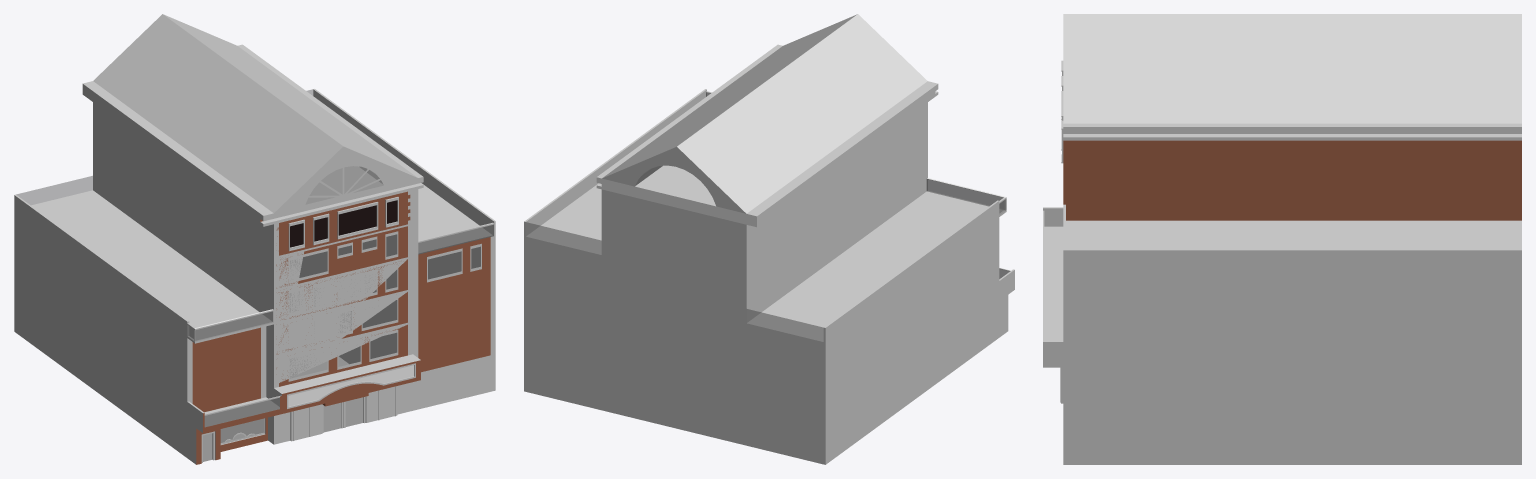
Rendered from camera 2.fbx.
The picture shows the model from 3 angles, left to right: view 1: azimuth 30°, elevation 25°; view 2: azimuth 150°, elevation 25°; view 3: azimuth 270°, elevation 25°; orthographic projection. The views are drawn at different scales.
Visible parts, largest first — view 1: Model; view 2: Model; view 3: Model.
Part boxes in pixels (box(x1,y1,x2,y2)): Model: box(14, 14, 495, 464); Model: box(524, 14, 1014, 464); Model: box(1043, 14, 1521, 464).
Size of the model in its own units: 1037 by 927 by 1128.
